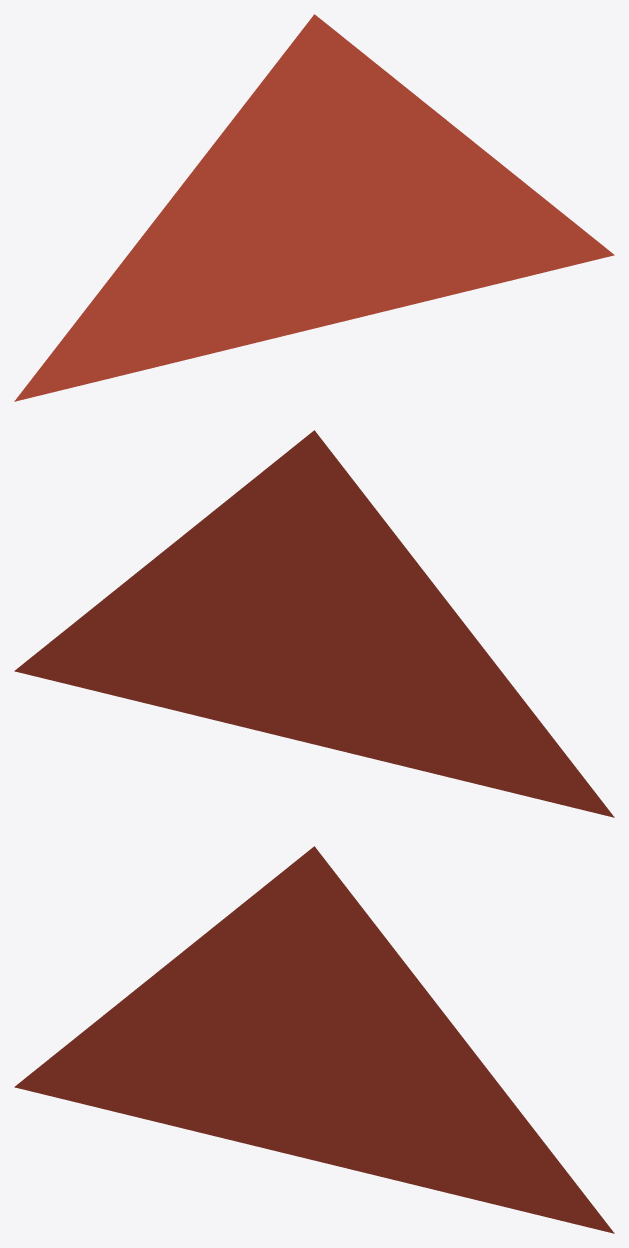
The model's file is triangle-test.glb.
3 renders of one model, top to bottom at view 1: azimuth 30°, elevation 25°; view 2: azimuth 150°, elevation 25°; view 3: azimuth 330°, elevation 25°, orthographic.
Visible parts, largest first — view 1: TriangleNode; view 2: TriangleNode; view 3: TriangleNode.
Boxes of the visible parts, x1=… form: TriangleNode: x1=14, y1=14, x2=614, y2=401; TriangleNode: x1=14, y1=430, x2=614, y2=817; TriangleNode: x1=14, y1=846, x2=614, y2=1233.
Size of the model in its own units: 2 by 1 by 0.
